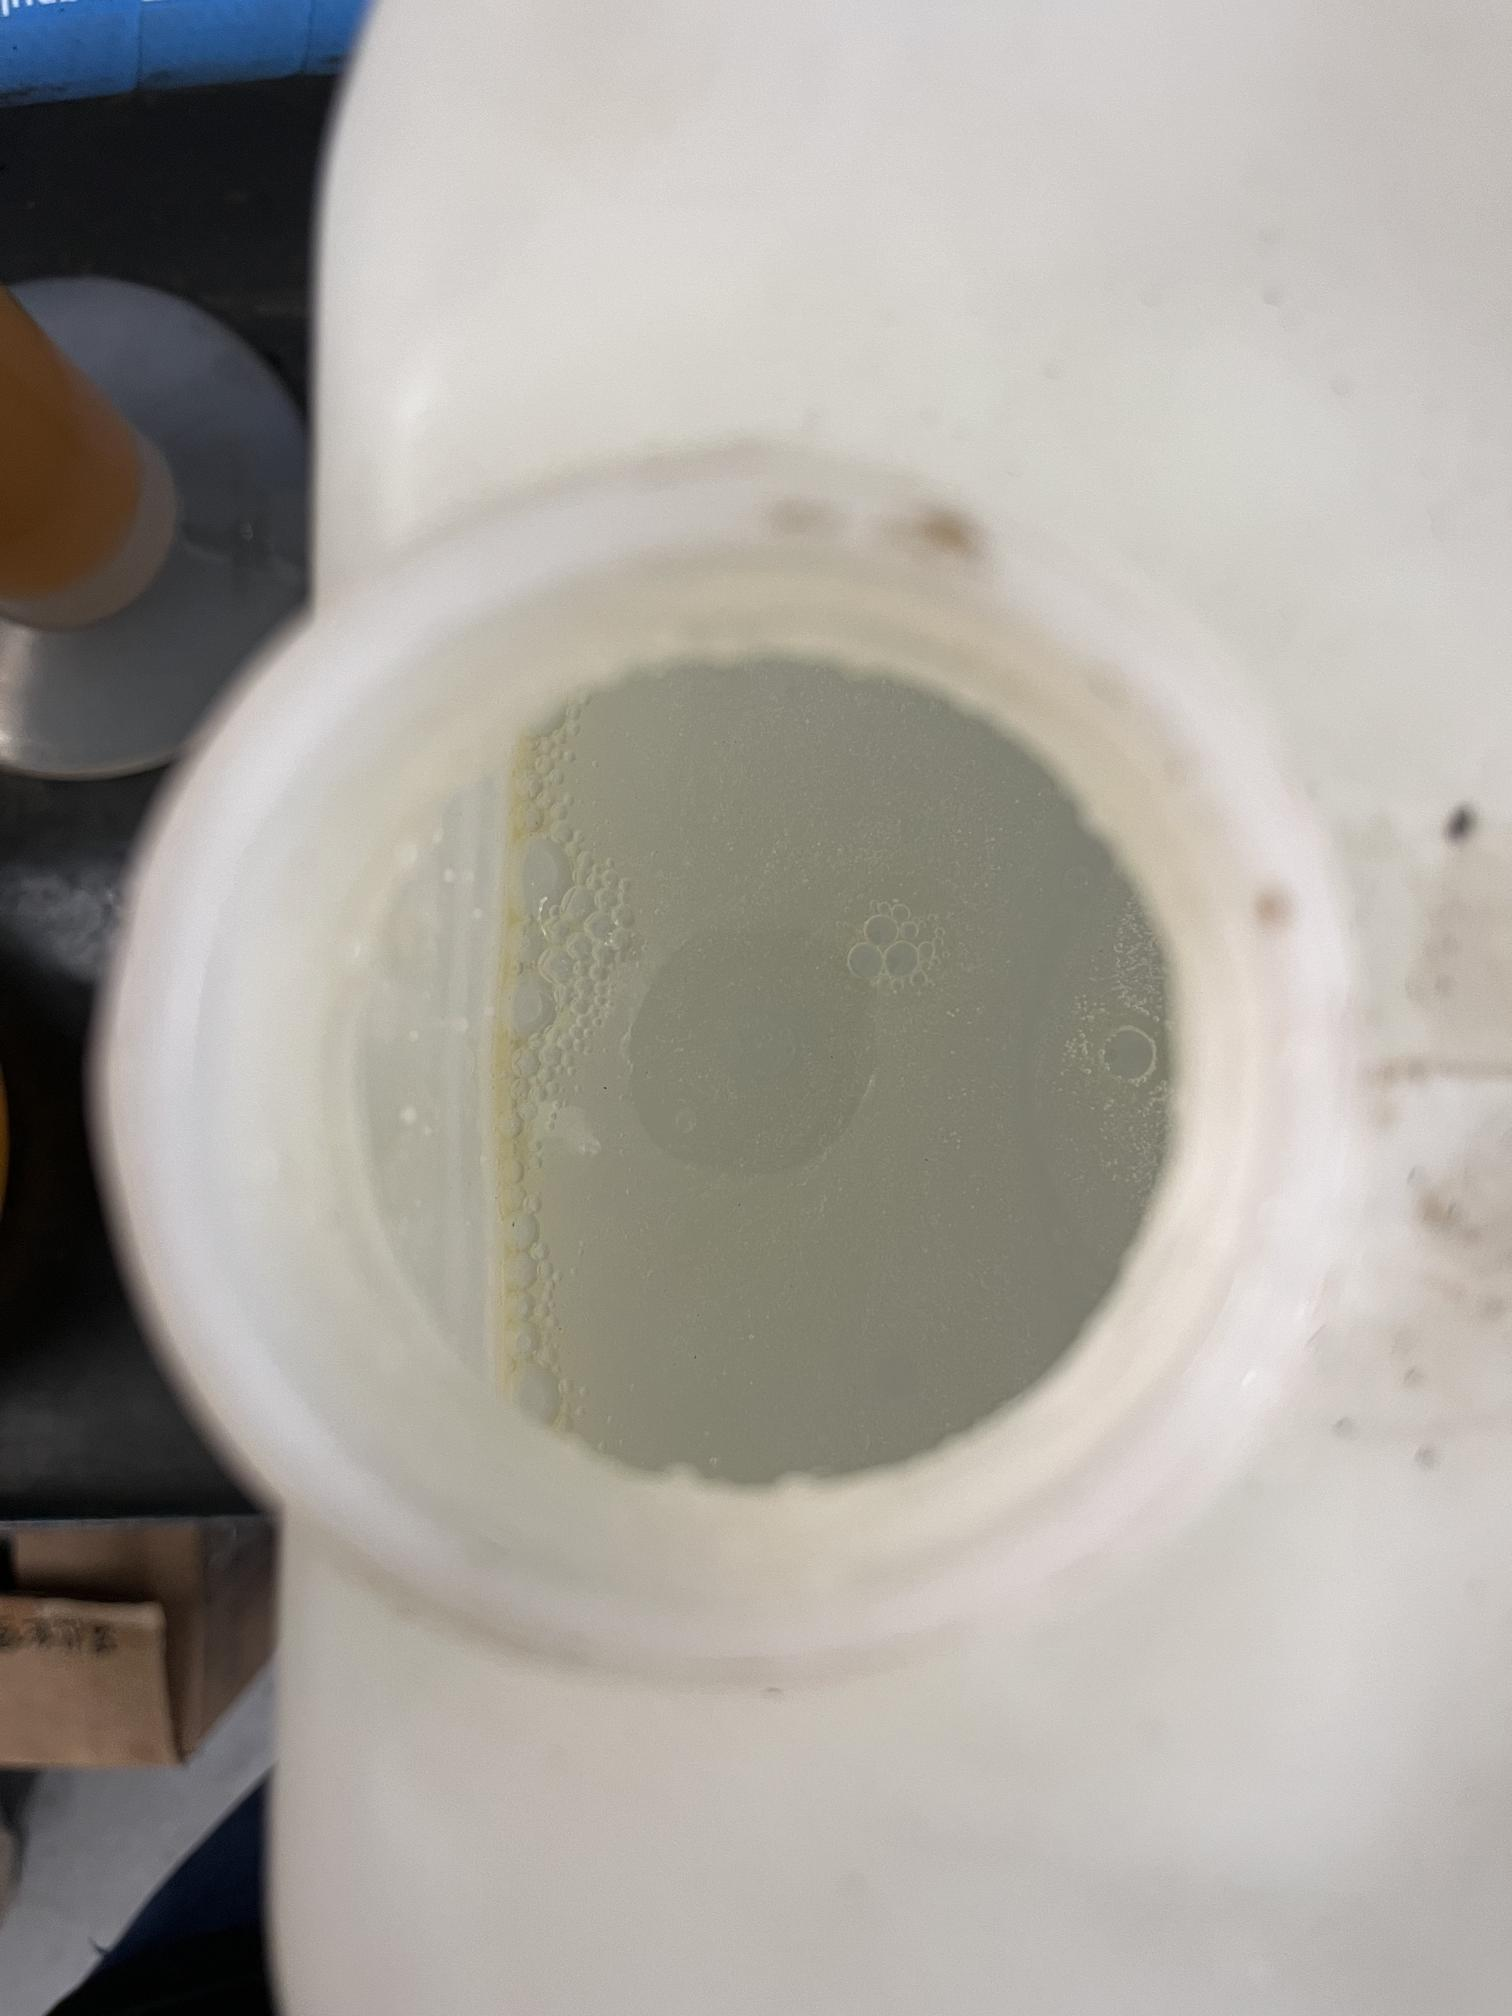Presenca de Oleo - - 170ml: (335, 565, 1394, 1600)
